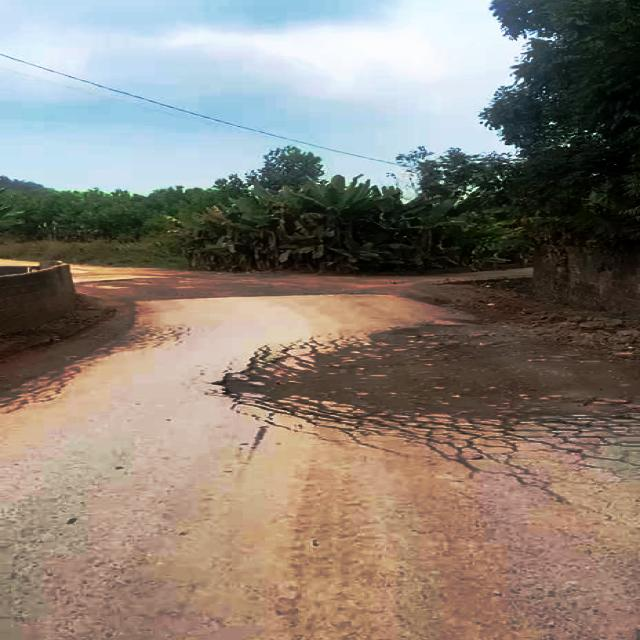pothole: (226, 317, 640, 440)
